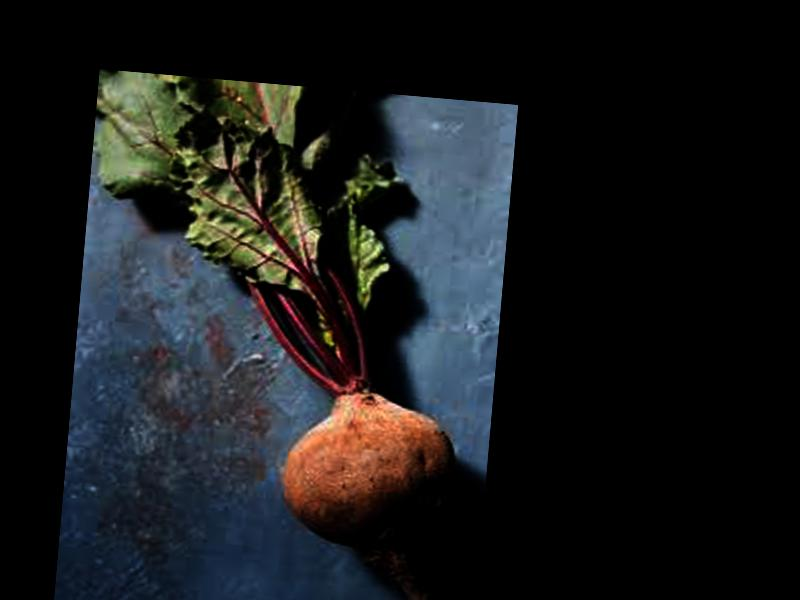Beet: (54, 68, 491, 600)
